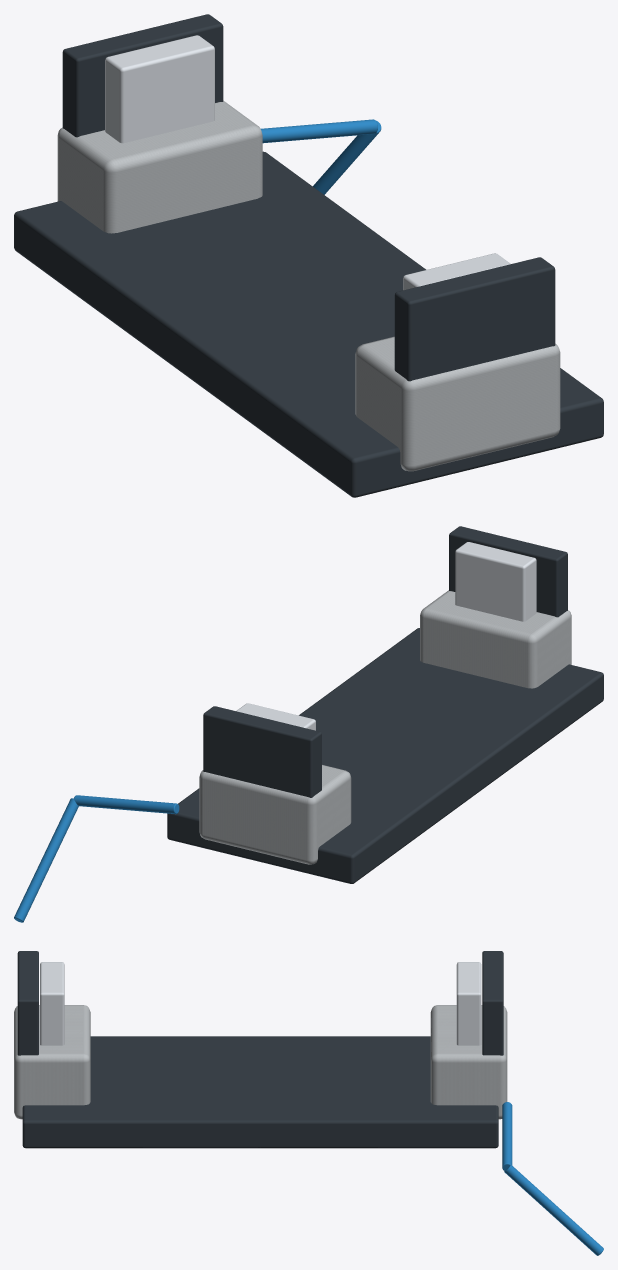
Rendered from CellClamp.gltf.
3 renders of one model, top to bottom at view 1: azimuth 30°, elevation 25°; view 2: azimuth 150°, elevation 25°; view 3: azimuth 270°, elevation 25°, orthographic. The views are drawn at different scales.
Visible parts, largest first — view 1: Clamp base, Pneumatic jaw slide (×2), Soft jaw (×2), Jaw support (×2), Clamp supply (×2); view 2: Clamp base, Pneumatic jaw slide (×2), Soft jaw (×2), Jaw support (×2), Clamp supply (×2); view 3: Clamp base, Pneumatic jaw slide (×2), Soft jaw (×2), Jaw support (×2), Clamp supply (×2).
Part boxes in pixels (x1,y1,x2,y2): Clamp base: (14, 151, 603, 497); Pneumatic jaw slide (×2): (57, 100, 560, 471); Soft jaw (×2): (62, 14, 555, 381); Jaw support (×2): (105, 35, 510, 290); Clamp supply (×2): (260, 119, 381, 194); Clamp base: (167, 628, 603, 883); Pneumatic jaw slide (×2): (199, 590, 571, 864); Soft jaw (×2): (203, 526, 567, 797); Jaw support (×2): (236, 542, 536, 730); Clamp supply (×2): (14, 795, 179, 922); Clamp base: (22, 1036, 498, 1148); Pneumatic jaw slide (×2): (14, 1005, 507, 1119); Soft jaw (×2): (17, 951, 503, 1055); Jaw support (×2): (40, 962, 481, 1045); Clamp supply (×2): (502, 1102, 603, 1255).
Size of the model in its own units: 0.3659 by 0.2514 by 0.6937.
Materials: 4 (1 with a texture image).
